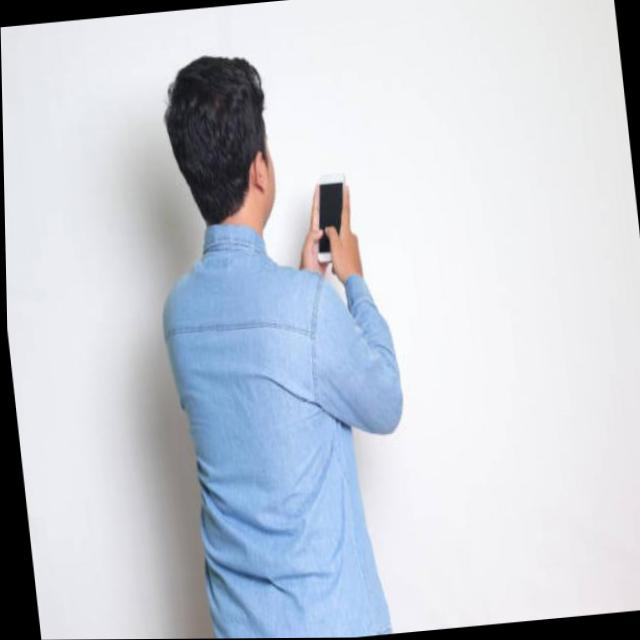no helmet: (154, 49, 285, 249)
